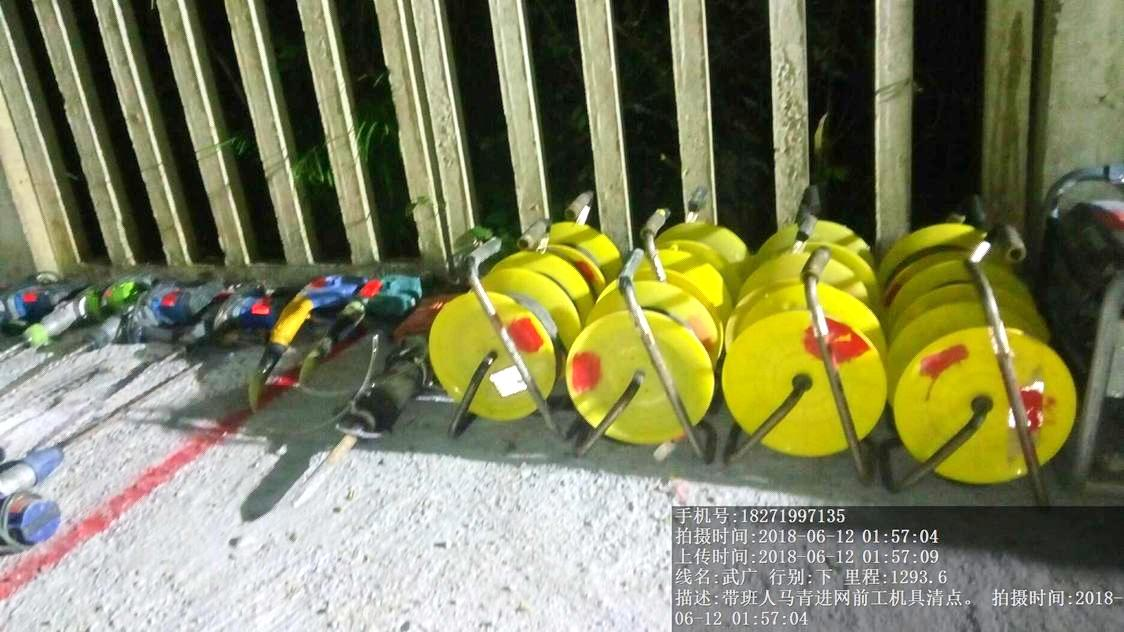DX: (892, 299, 1066, 505), (734, 283, 880, 491), (578, 283, 722, 460), (438, 281, 564, 442)
